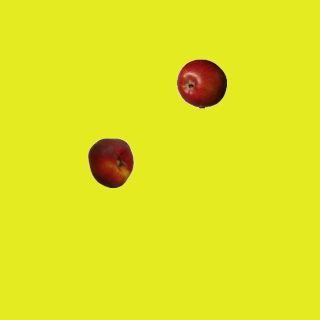Apple Braeburn: (176, 58, 226, 108)
Nectarine Flat: (85, 137, 135, 187)
